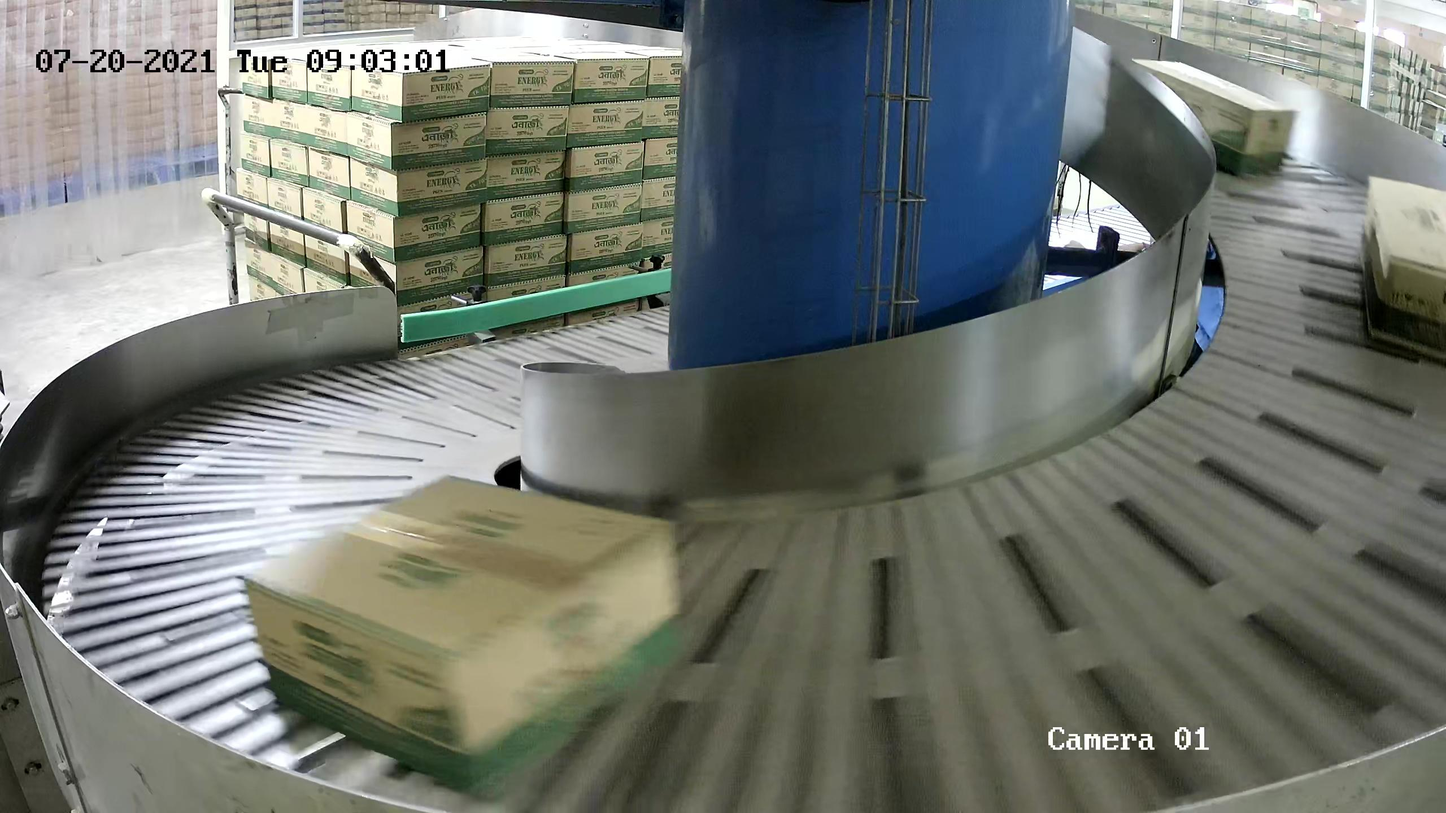Box: (238, 469, 696, 806), (1122, 57, 1301, 179), (1358, 175, 1446, 369)
